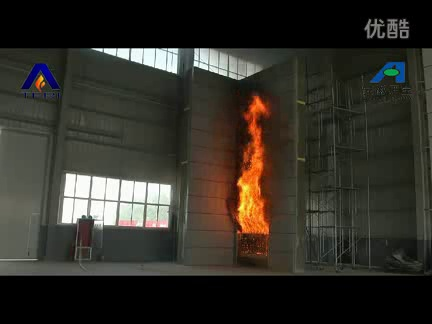fire: (237, 91, 272, 235)
